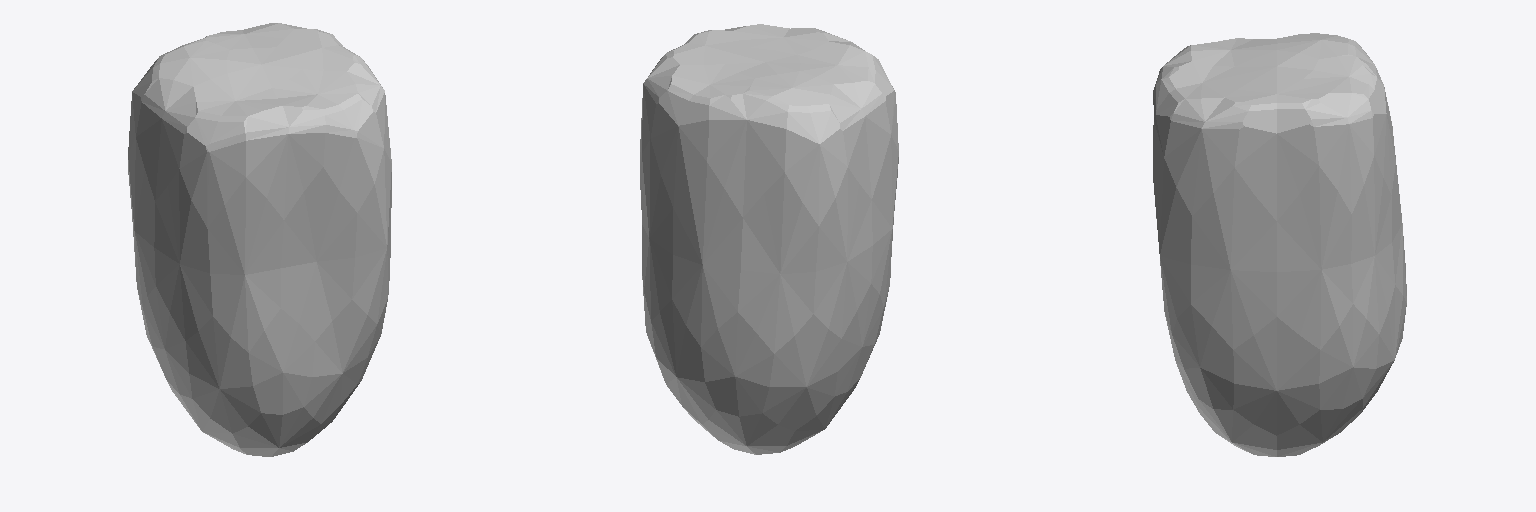
Rendered from Rock2.obj.
3 views of the same model, side by side, from view 1: azimuth 30°, elevation 25°; view 2: azimuth 150°, elevation 25°; view 3: azimuth 270°, elevation 25° (orthographic).
Parts seen in each view (by area): view 1: Icosphere; view 2: Icosphere; view 3: Icosphere.
Boxes of the visible parts, <box> form: Icosphere: <box>128,23,391,456</box>; Icosphere: <box>640,24,898,454</box>; Icosphere: <box>1153,33,1406,456</box>.
Size of the model in its own units: 4.3 by 7.75 by 4.58.